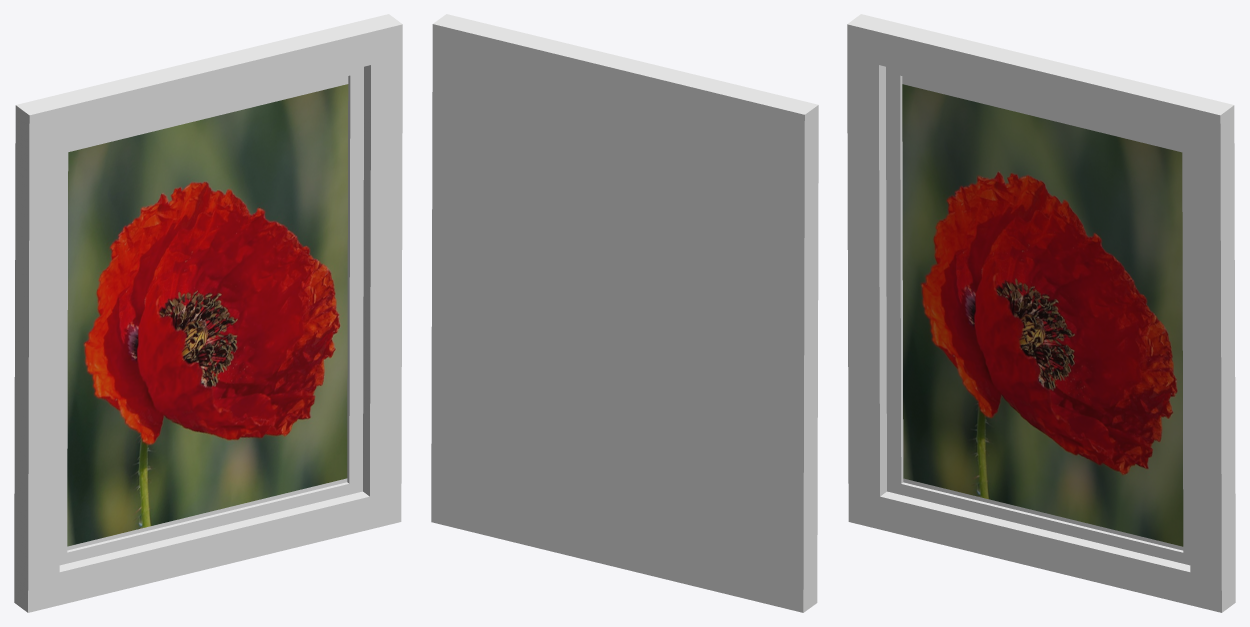
File: Picture 2.FBX
3 views of the same model, side by side, from view 1: azimuth 30°, elevation 25°; view 2: azimuth 150°, elevation 25°; view 3: azimuth 330°, elevation 25° (orthographic).
Visible parts, largest first — view 1: picture 2; view 2: picture 2; view 3: picture 2.
Part boxes in pixels (<box>): picture 2: <box>14,14,402,612</box>; picture 2: <box>431,14,818,612</box>; picture 2: <box>847,14,1235,612</box>.
Size of the model in its own units: 53.24 by 67.97 by 3.79.
Materials: 1 (1 with a texture image).
